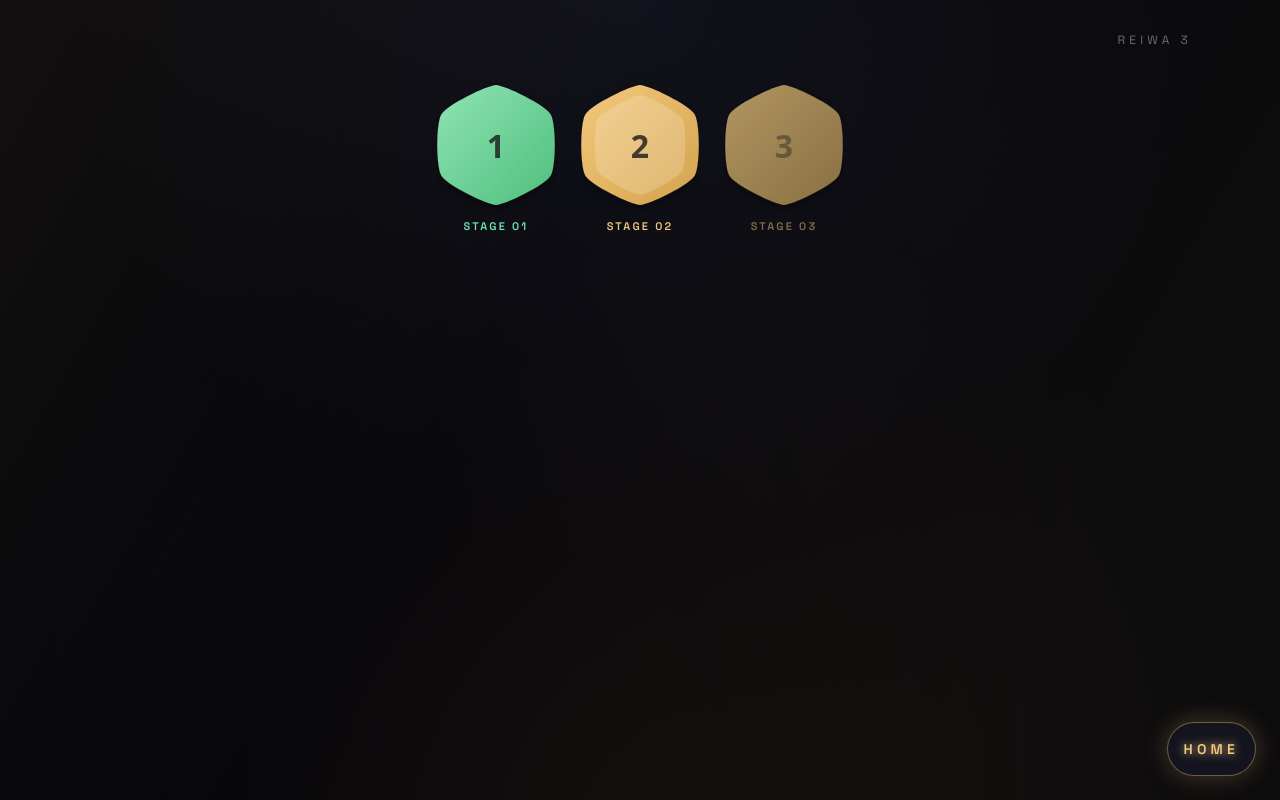
Test: StageSelectPage › 過去に挑戦済みなら前回の正答率がモーダルに表示される
The width and height of the screenshot is (1280, 800).
Click the button "1 Stage 01" at (496, 158), box top-left (436, 80), bottom-right (556, 236)
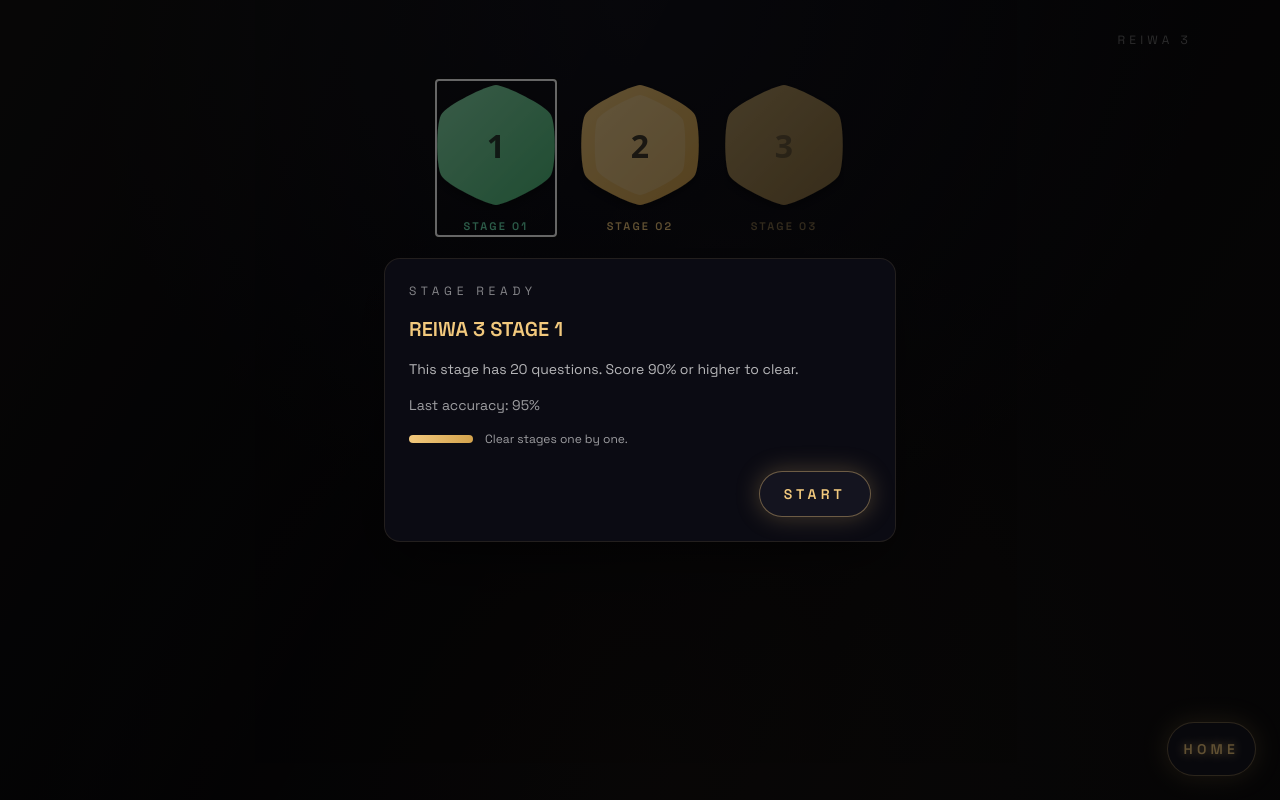
Check: the text "Last accuracy: 95%" is shown, box top-left (409, 396), bottom-right (540, 414)
